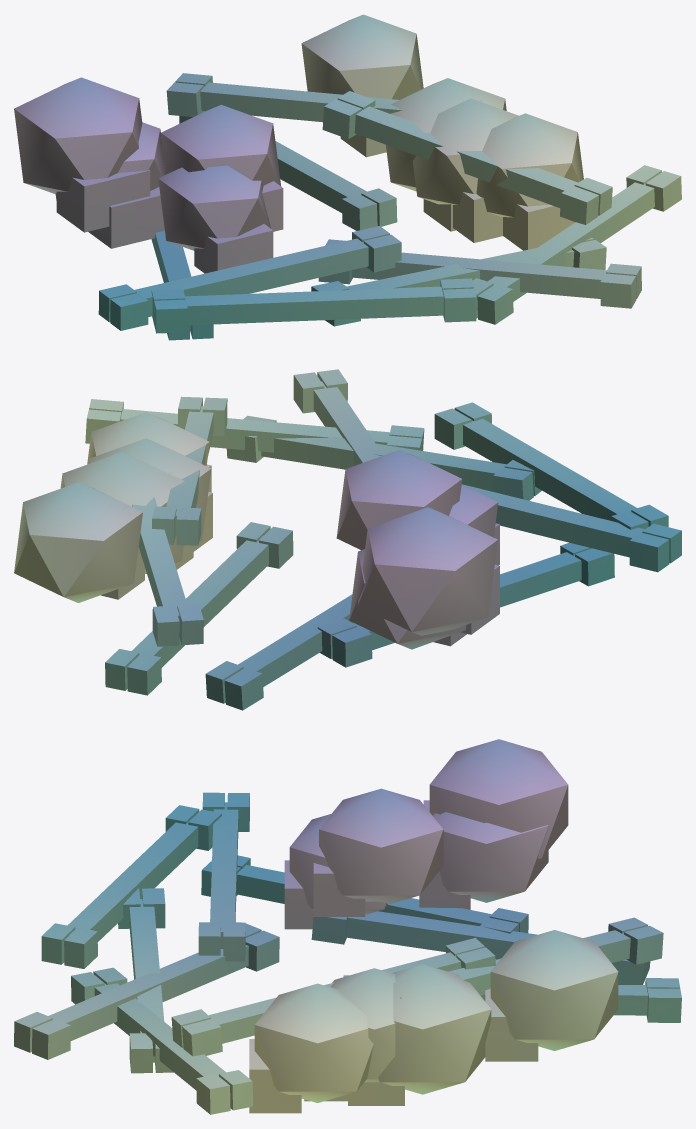
File: bone_pile.glb
3 views of the same model, one above another, from view 1: azimuth 30°, elevation 25°; view 2: azimuth 150°, elevation 25°; view 3: azimuth 270°, elevation 25° (orthographic). The views are drawn at different scales.
Parts seen in each view (by area): view 1: bone_pile; view 2: bone_pile; view 3: bone_pile.
Part boxes in pixels (x1,y1,x2,y2): bone_pile: [14, 14, 681, 340]; bone_pile: [14, 369, 681, 710]; bone_pile: [14, 739, 681, 1114].
Bounding box in the file's own units: 0.9893 × 0.3001 × 0.97.
